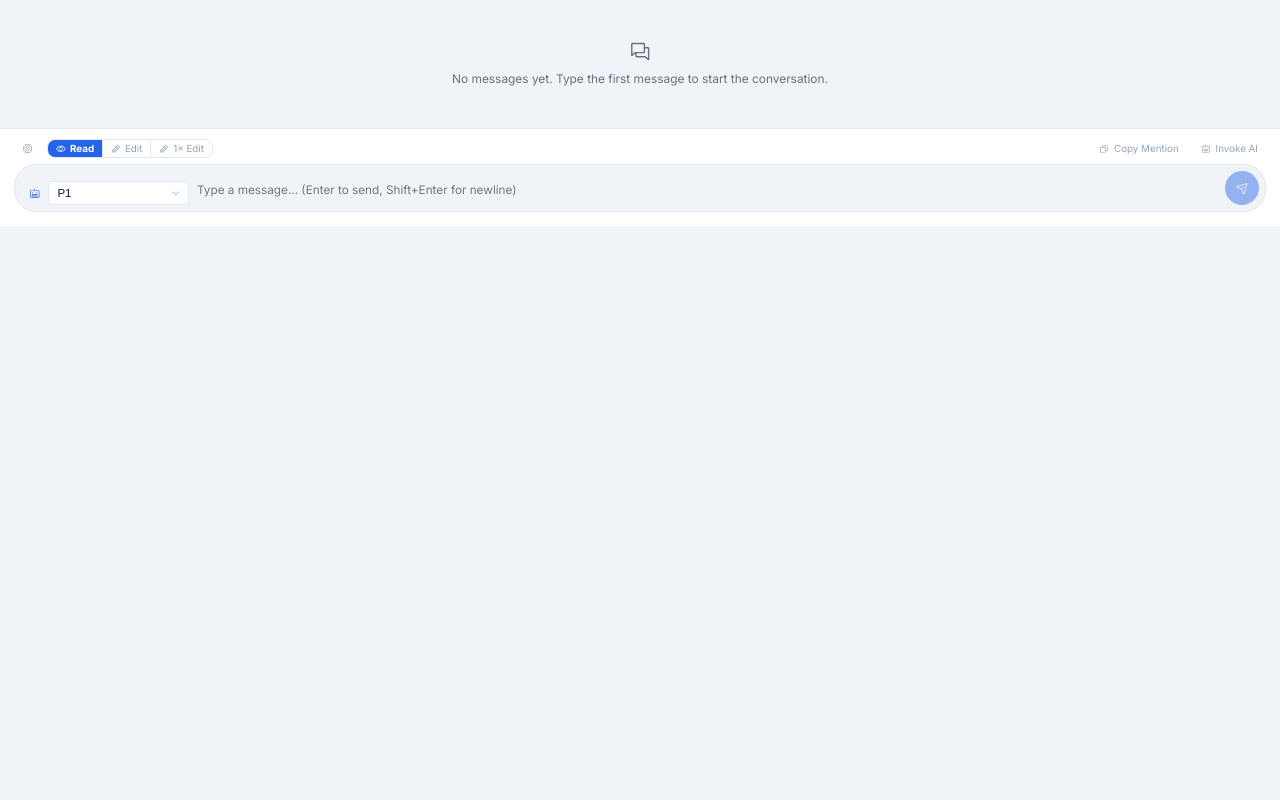
ConversationView context range › shows "custom" with the number field pre-filled for a non-preset saved value
The image size is (1280, 800).
Click the button with class "conv-gear-btn". click: (28, 149)
box: [14,140,41,157]
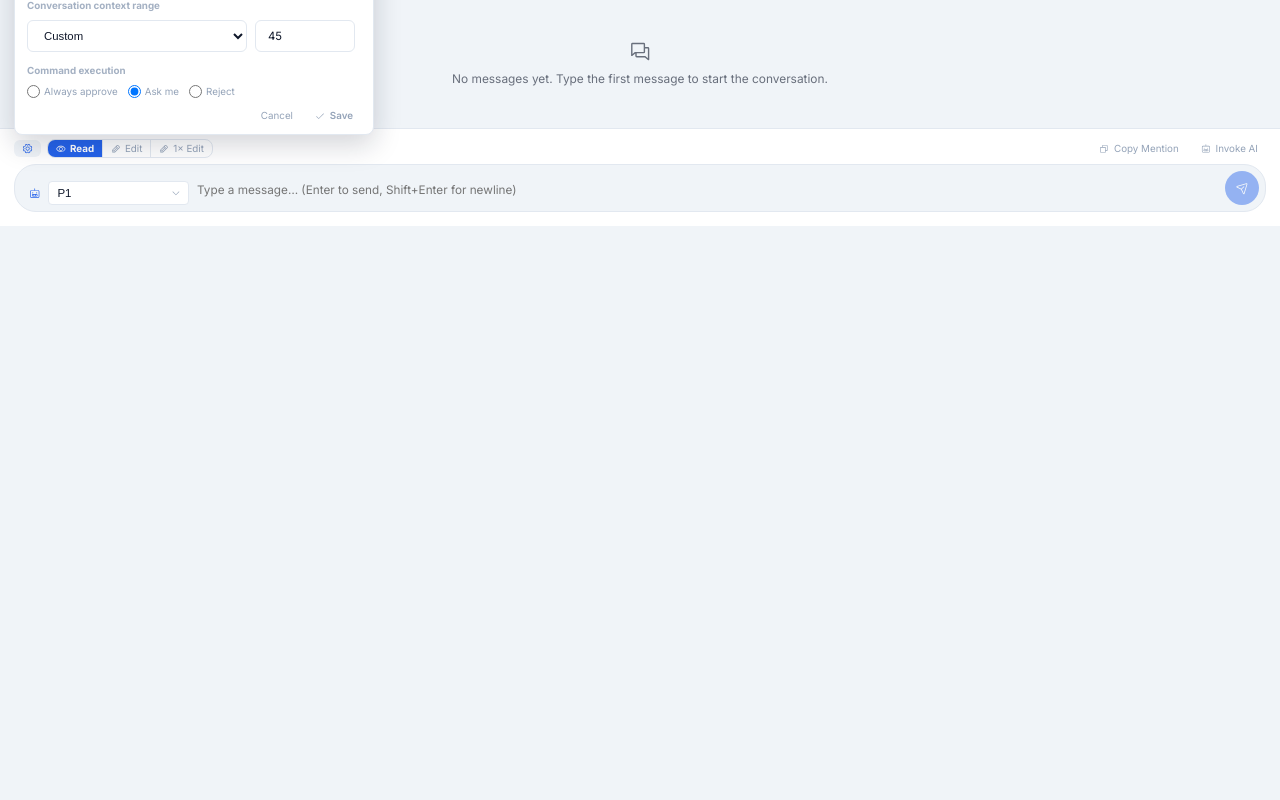
Result: the dropdown with class "conv-settings-select" shows "Custom" at [27,20,247,52]
Result: the number field with class "conv-settings-number" holds "45" at [255,20,355,52]
